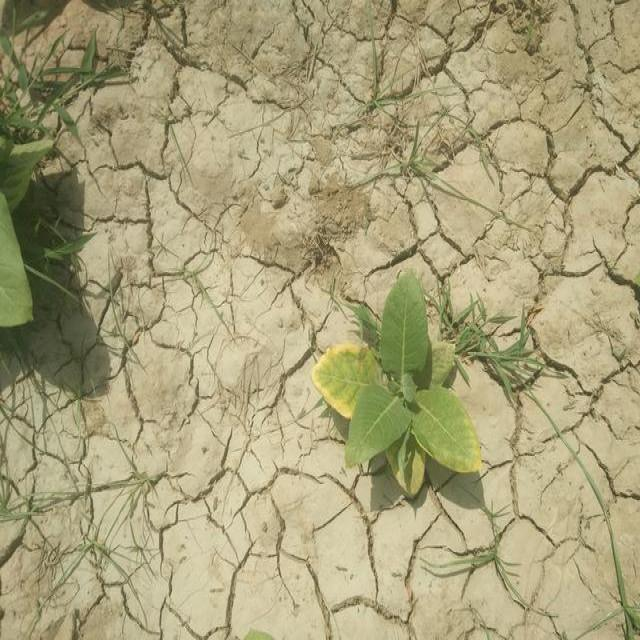crop: (314, 266, 483, 492)
